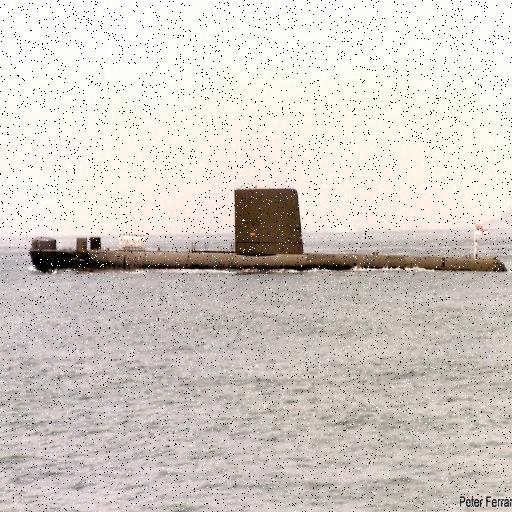submarine: (31, 185, 509, 276)
